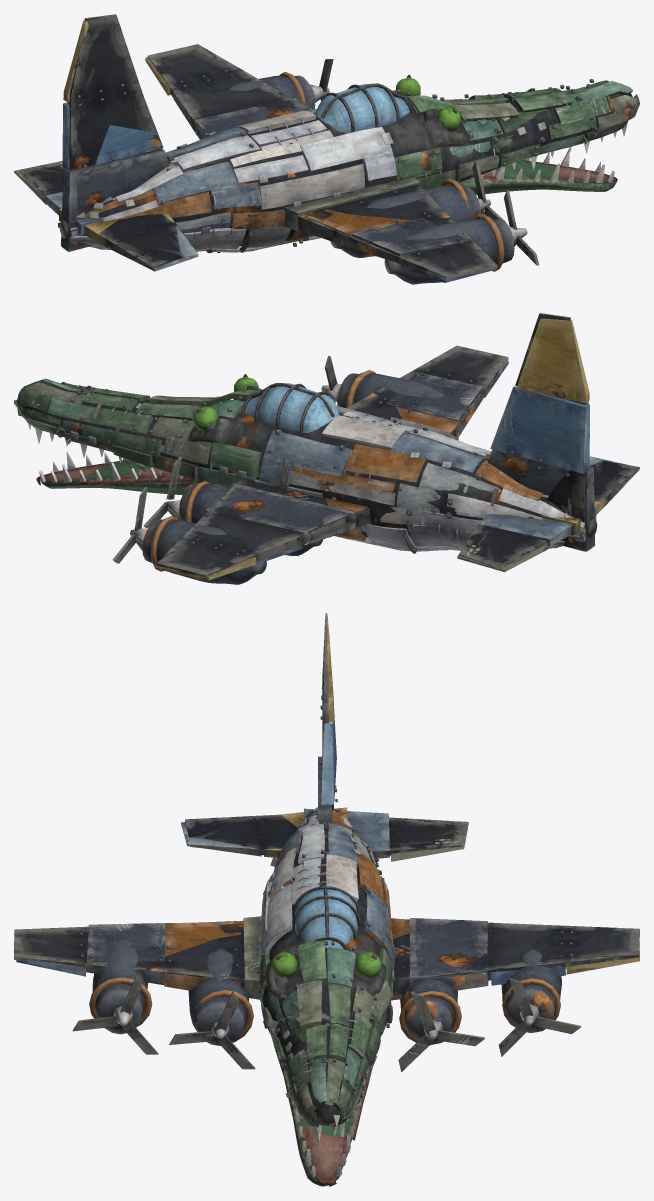
The picture shows the model from 3 angles, top to bottom: view 1: azimuth 30°, elevation 25°; view 2: azimuth 150°, elevation 25°; view 3: azimuth 270°, elevation 25°; orthographic projection. The views are drawn at different scales.
Parts seen in each view (by area): view 1: Tail, Wings, Body, PanelsGUNMETAL, PanelsALUMINIUM, Engines, PanelsMOSS, PanelsBLUEGREY, PanelsTIN, PanelsOLIVE, PanelsRUST, Canopy (+17 smaller); view 2: Wings, PanelsGUNMETAL, Body, PanelsBLUEGREY, PanelsPAINTED, Tail, PanelsMOSS, PanelsRUST, PanelsBRASS, Engines, PanelsALUMINIUM, PanelsOLIVE (+17 smaller); view 3: Wings, Engines, PanelsGUNMETAL, Tail, PanelsOLIVE, Body, Props, PanelsMOSS, PanelsBLUEGREY, PanelsRUST, PanelsALUMINIUM, PanelsVERDIGRIS (+13 smaller).
Part boxes in pixels (x1,y1,x2,y2): Tail: [17, 14, 197, 267]; Wings: [147, 44, 497, 279]; Body: [59, 90, 632, 245]; PanelsGUNMETAL: [61, 98, 466, 256]; PanelsALUMINIUM: [70, 120, 396, 251]; Engines: [229, 75, 514, 284]; PanelsMOSS: [394, 88, 610, 189]; PanelsBLUEGREY: [45, 108, 316, 271]; PanelsTIN: [70, 111, 364, 249]; PanelsOLIVE: [14, 82, 639, 231]; PanelsRUST: [72, 189, 411, 248]; Canopy: [315, 84, 413, 133]; Wings: [156, 345, 508, 577]; PanelsGUNMETAL: [205, 372, 594, 551]; Body: [22, 385, 596, 537]; PanelsBLUEGREY: [259, 430, 639, 546]; PanelsPAINTED: [255, 360, 589, 564]; Tail: [459, 313, 639, 569]; PanelsMOSS: [14, 383, 261, 477]; PanelsRUST: [291, 406, 542, 541]; PanelsBRASS: [155, 318, 608, 580]; Engines: [142, 373, 444, 584]; PanelsALUMINIUM: [334, 406, 585, 551]; PanelsOLIVE: [20, 382, 547, 572]; Wings: [14, 919, 639, 995]; Engines: [92, 939, 561, 1045]; PanelsGUNMETAL: [86, 756, 488, 991]; Tail: [185, 613, 467, 857]; PanelsOLIVE: [243, 817, 468, 1122]; Body: [262, 825, 386, 1125]; Props: [72, 975, 581, 1071]; PanelsMOSS: [259, 940, 392, 1123]; PanelsBLUEGREY: [181, 808, 394, 970]; PanelsRUST: [164, 812, 409, 1000]; PanelsALUMINIUM: [259, 815, 324, 965]; PanelsVERDIGRIS: [269, 947, 391, 1104].
Bounding box in the file's own units: 6.54 × 3.25 × 5.97.
32 materials, 32 textured.
